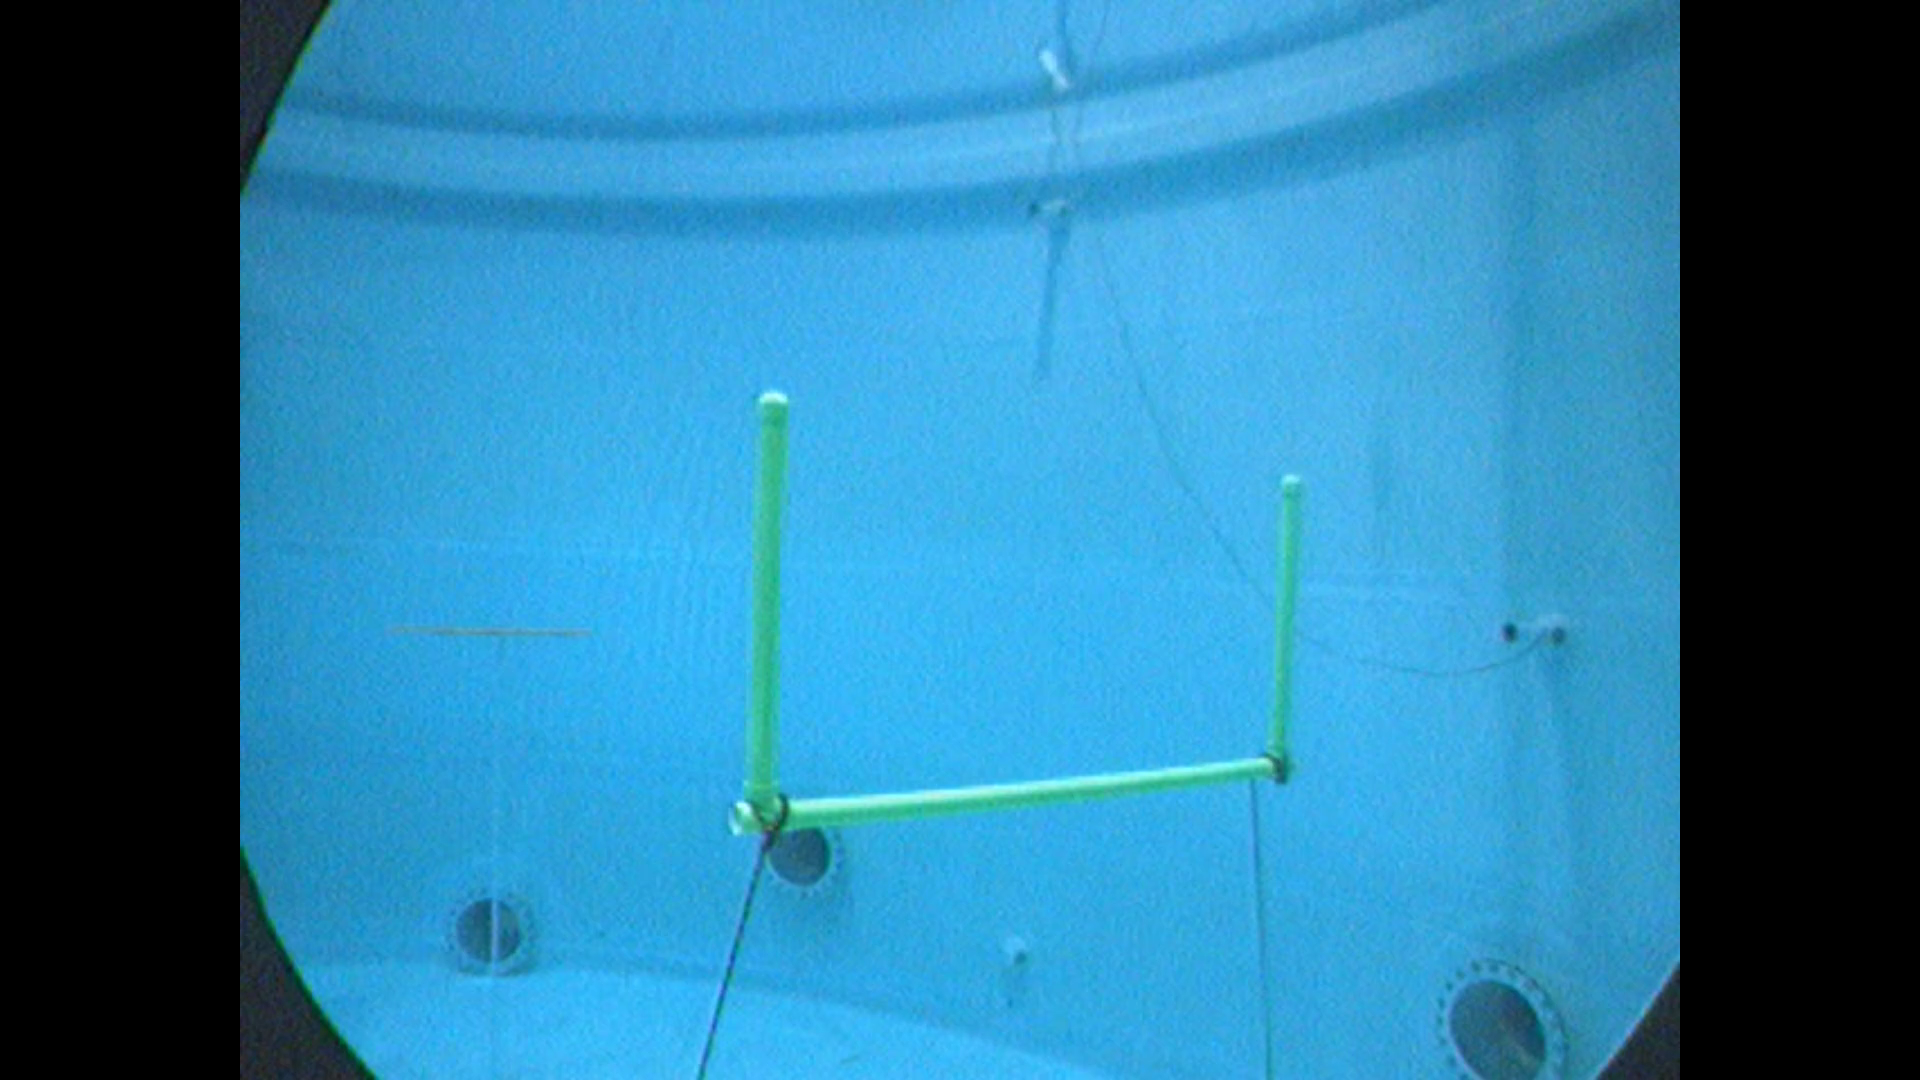gate: (723, 385, 1316, 839)
